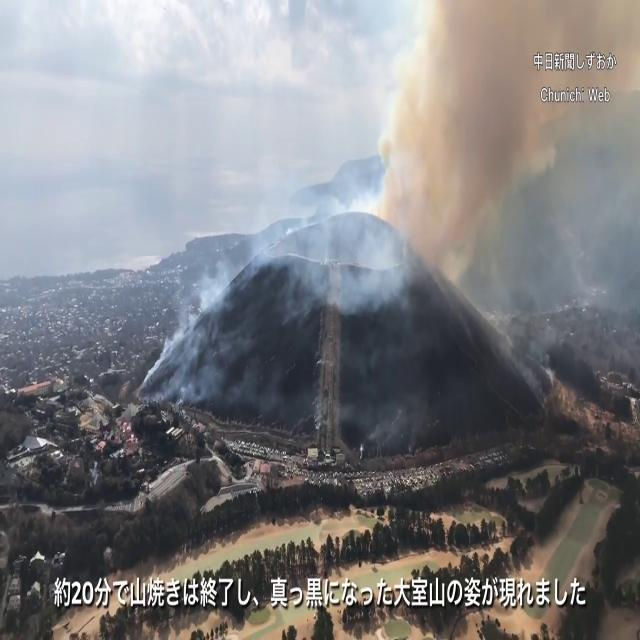Smoke: (280, 1, 640, 318), (134, 254, 243, 397)
